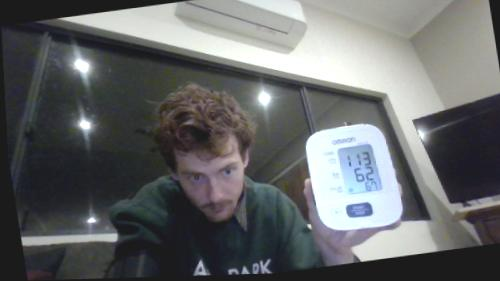bpm: (336, 140, 383, 197)
